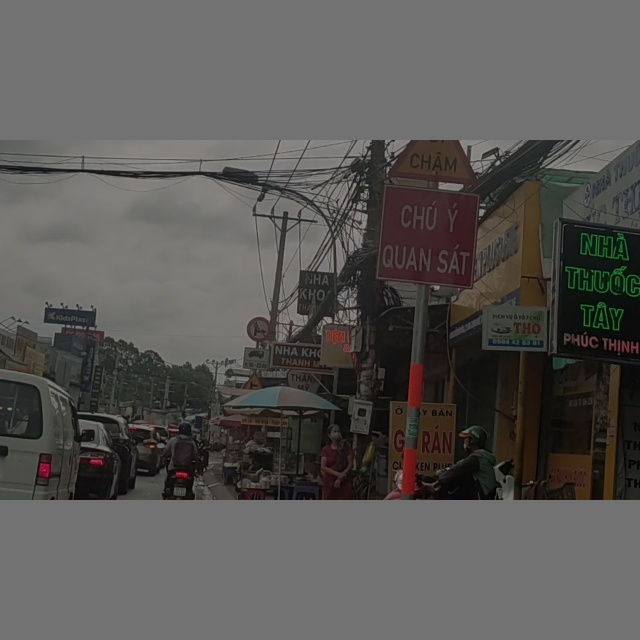P.139: (245, 315, 273, 343)
S.505a*Xe tai: (243, 348, 270, 369)
W.205b: (241, 371, 268, 392)
W.245a: (385, 141, 484, 182)
